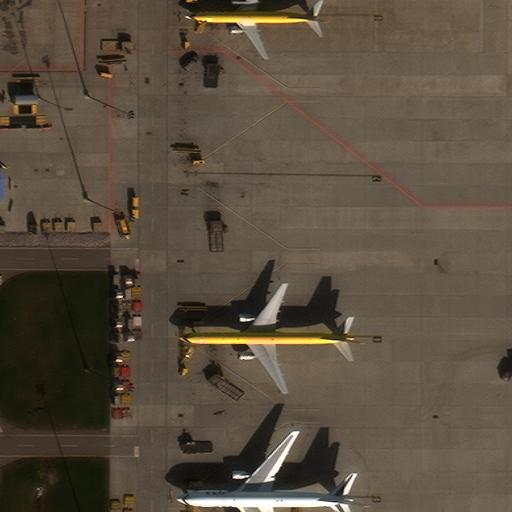Large Civil Transport: (178, 283, 354, 393), (177, 432, 354, 512)
Medium Civil Transport: (185, 0, 318, 58)
